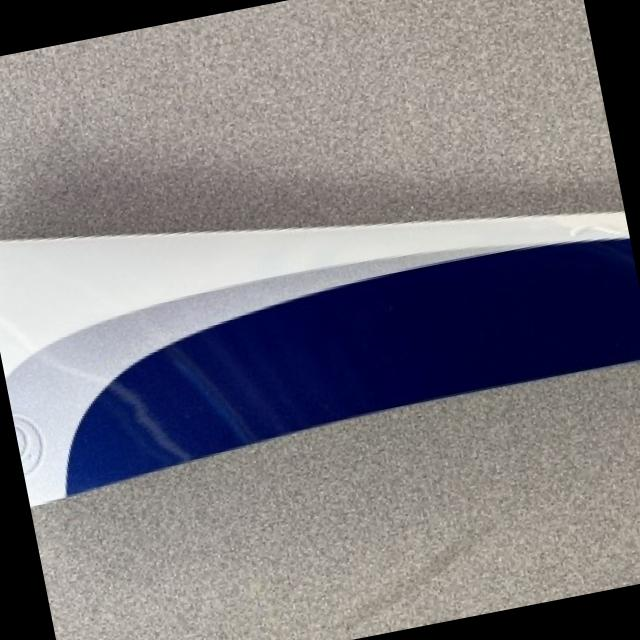healthy: (0, 209, 640, 504)
